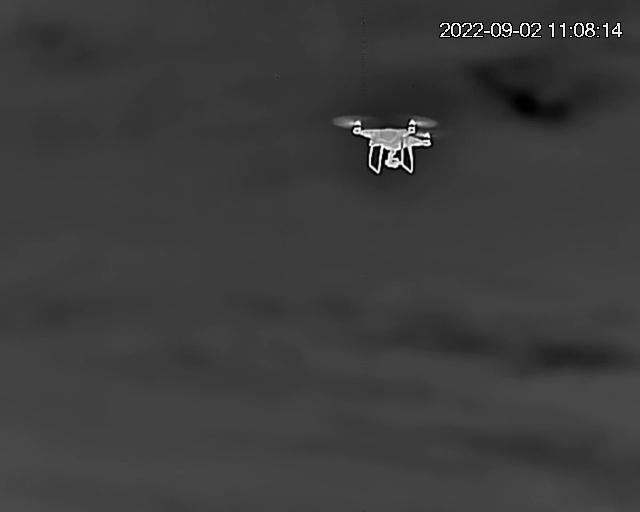DJI-Phantom: (334, 115, 437, 176)
